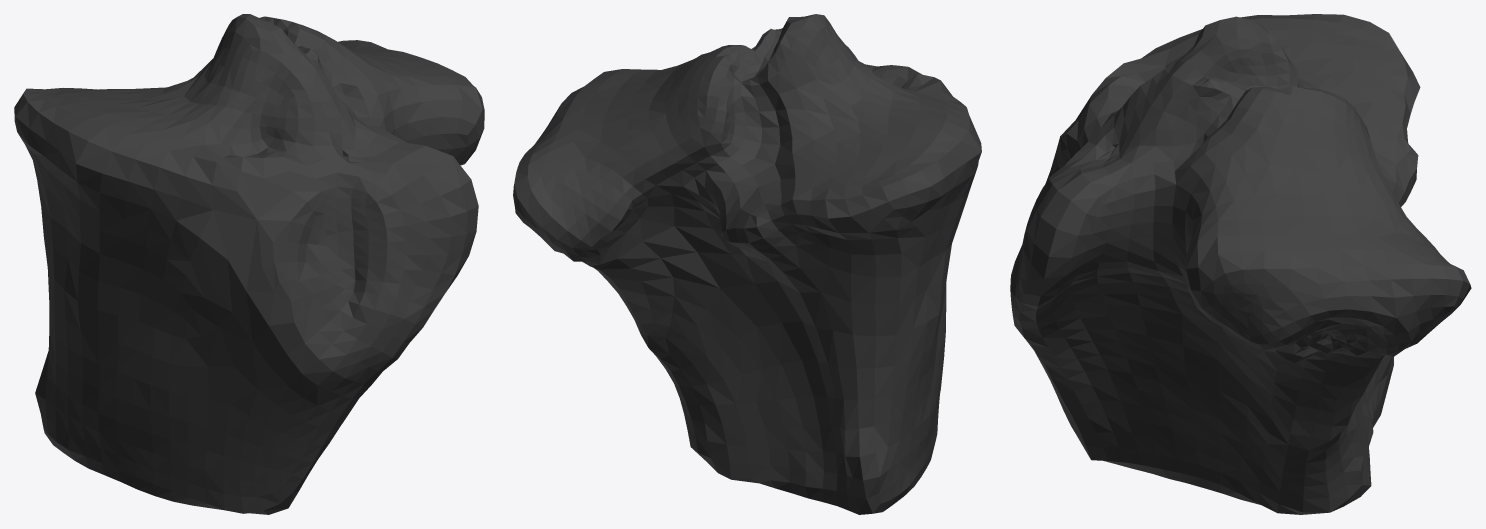
The model's file is Tibia.glb.
3 views of the same model, side by side, from view 1: azimuth 30°, elevation 25°; view 2: azimuth 150°, elevation 25°; view 3: azimuth 270°, elevation 25° (orthographic). The views are drawn at different scales.
Parts seen in each view (by area): view 1: Tibia; view 2: Tibia; view 3: Tibia.
Boxes of the visible parts, x1=… form: Tibia: x1=14, y1=14, x2=484, y2=514; Tibia: x1=513, y1=14, x2=981, y2=514; Tibia: x1=1010, y1=14, x2=1471, y2=514.
Size of the model in its own units: 1.21 by 1.22 by 1.09.
1 material, 1 textured.
